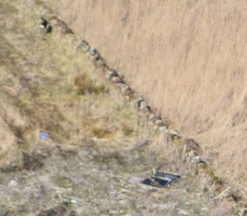white_in_green: (124, 151, 197, 201), (28, 121, 61, 146)
